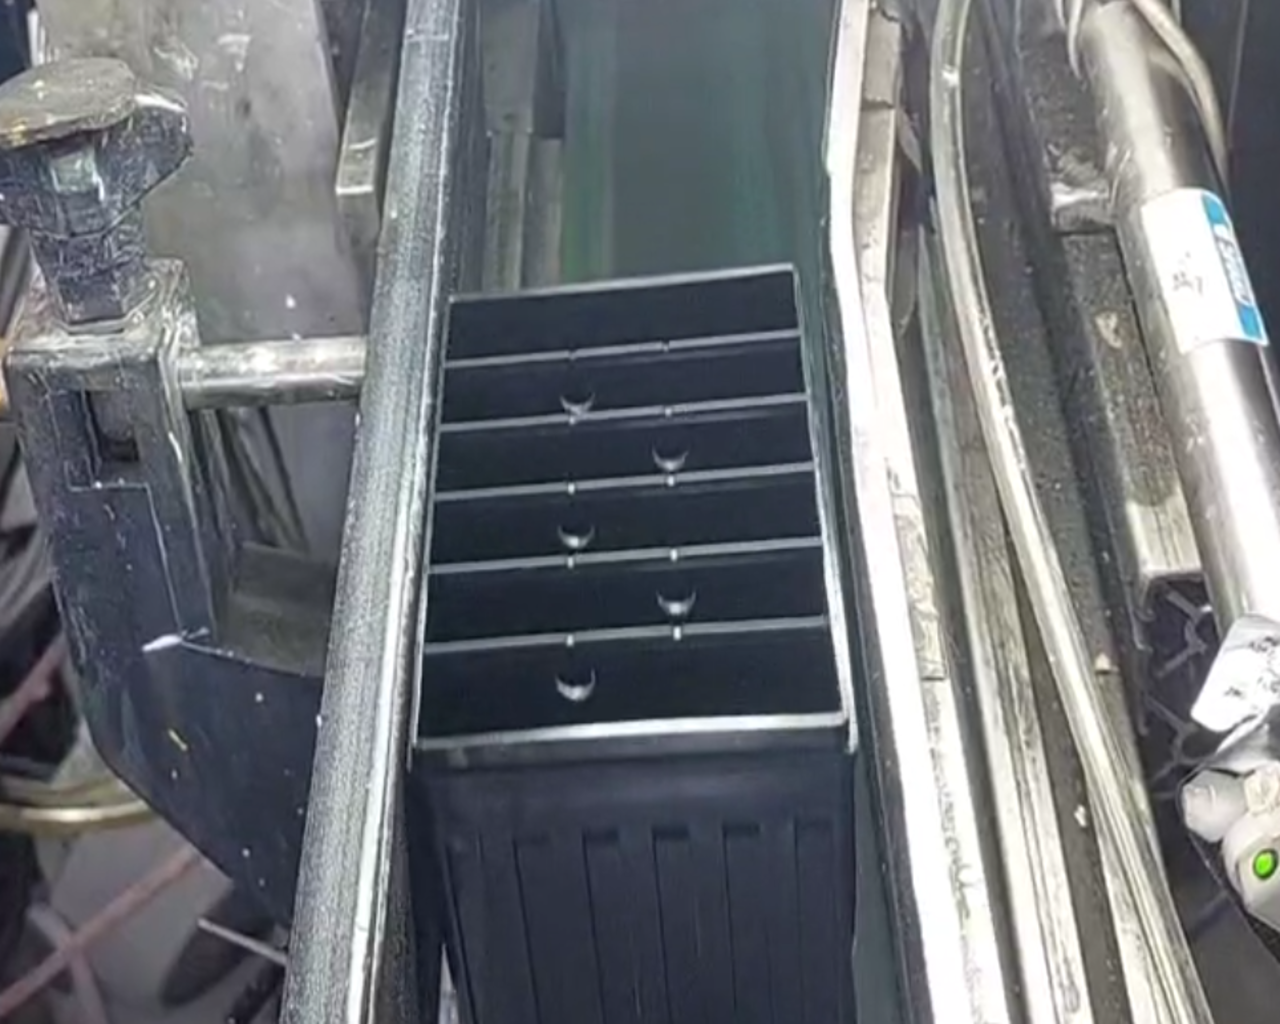box: (394, 249, 874, 787)
round: (541, 653, 603, 706), (647, 571, 707, 623), (545, 504, 604, 557), (642, 428, 700, 476), (546, 375, 604, 419)
